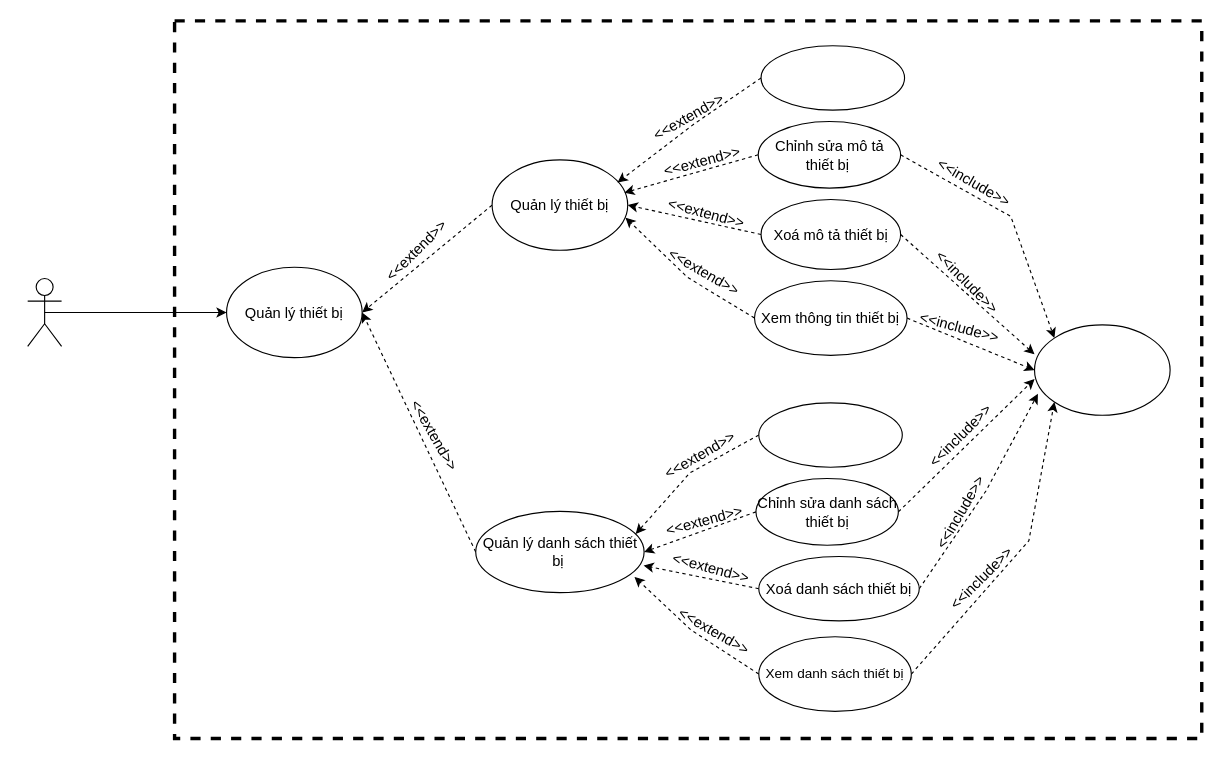
Image size: 1223x759. Some labels were removed from this diagram. The centre of each missing label's shape, as x and y in pixels:
"Quản lý" goes at point (44, 311).
"Thêm danh sách thiết bị" goes at point (830, 434).
"Thêm mô tả thiết bị" goes at point (832, 77).
"Tìm kiếm thông tin" goes at point (1101, 369).
